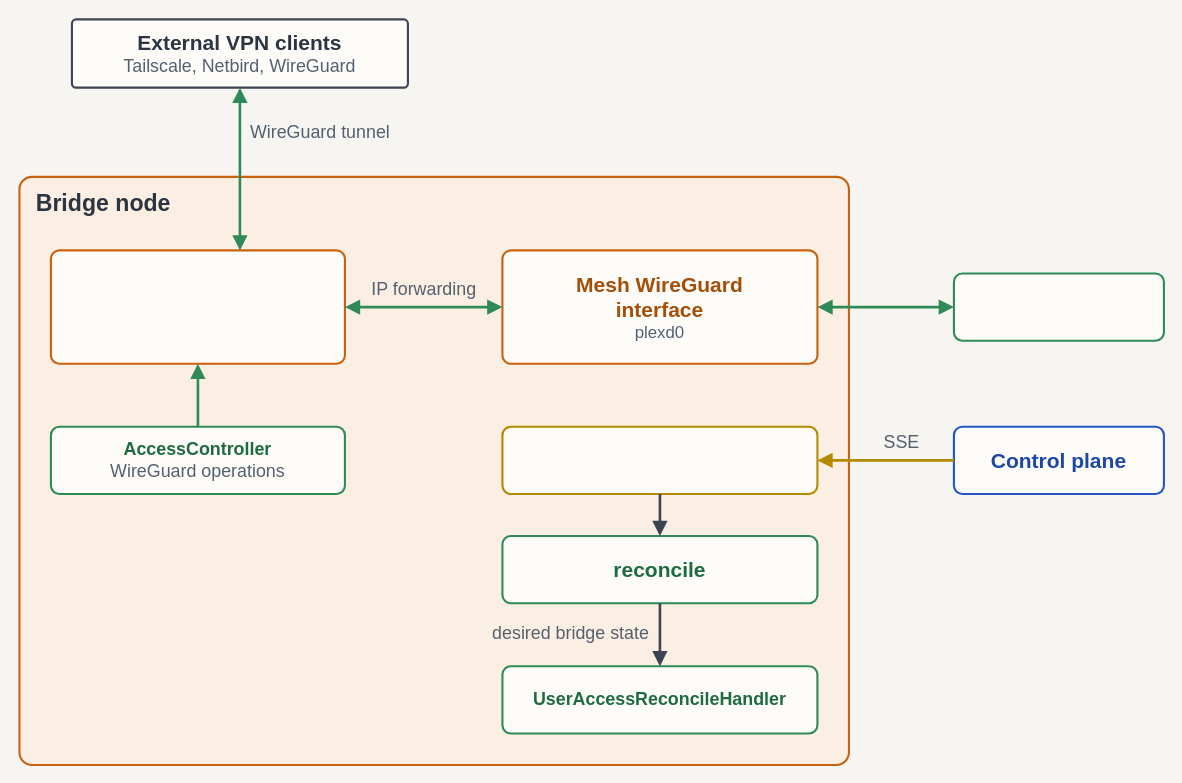
Some shapes in this 1182 by 783 pixel diagram are drawn without their labels. The box of each missing label's shape, as (x1, y1, x2, y2) in pixels:
Access WireGuard interface wg-access port 51822: (49, 249, 345, 364)
bridge_config_updated: (501, 425, 818, 495)
Mesh peers 10.42.0.0/16: (952, 272, 1164, 341)
